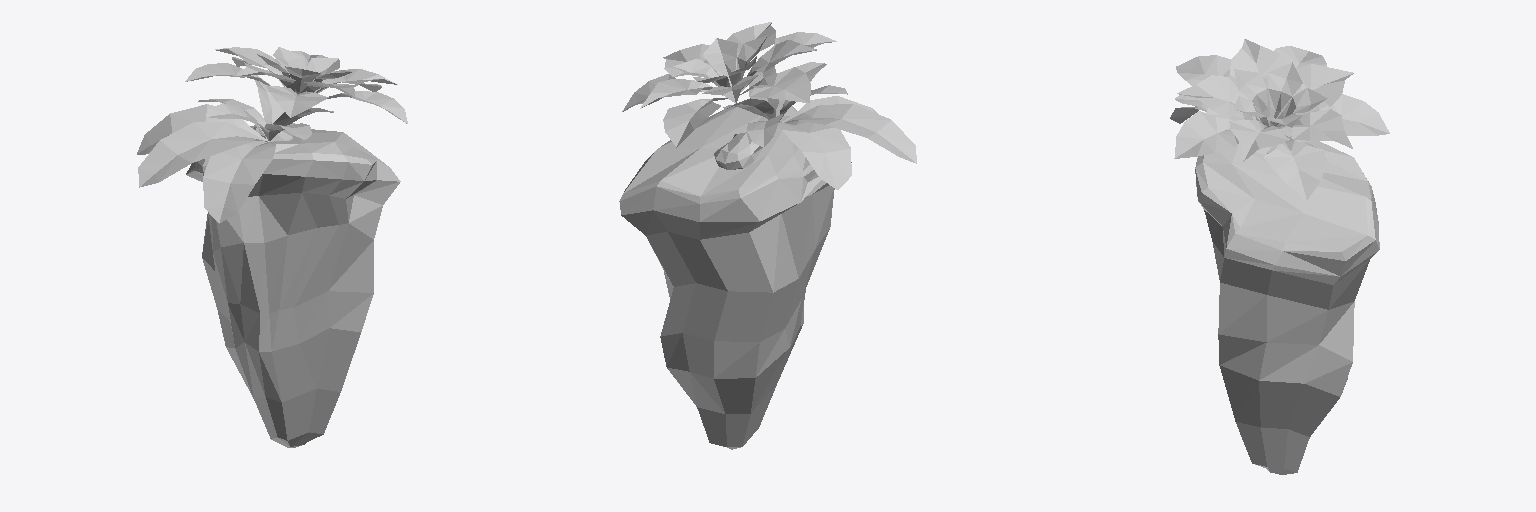
The model's file is platformEmptyFlower.obj.
3 renders of one model, left to right at view 1: azimuth 30°, elevation 25°; view 2: azimuth 150°, elevation 25°; view 3: azimuth 270°, elevation 25°, orthographic.
Visible parts, largest first — view 1: platformEmptyFlower PlatfprmsAndSpikes; view 2: platformEmptyFlower PlatfprmsAndSpikes; view 3: platformEmptyFlower PlatfprmsAndSpikes.
Boxes of the visible parts, box(x1,y1,x2,y2) form: platformEmptyFlower PlatfprmsAndSpikes: box(137, 47, 407, 447); platformEmptyFlower PlatfprmsAndSpikes: box(619, 22, 916, 449); platformEmptyFlower PlatfprmsAndSpikes: box(1170, 39, 1389, 474).
Size of the model in its own units: 7.82 by 11.31 by 5.61.